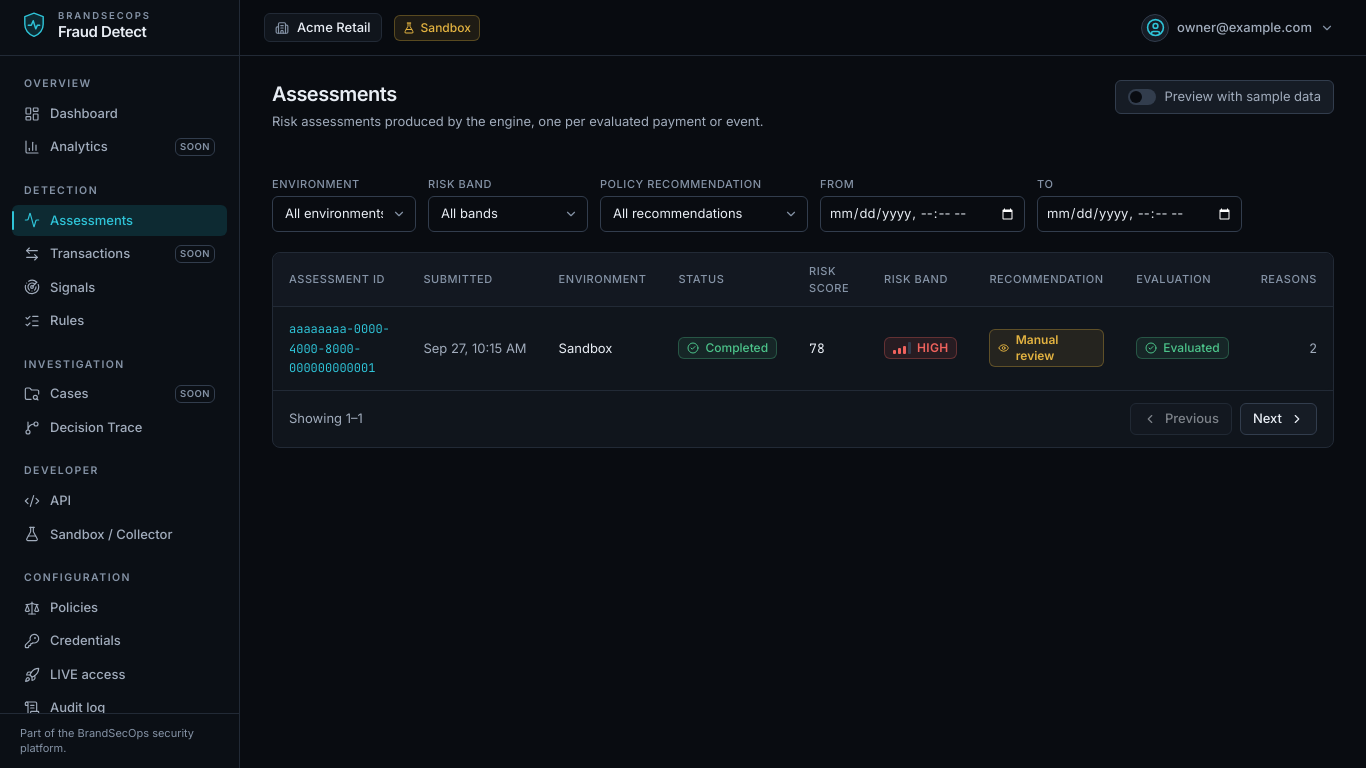
Scenario: real assessment list › has_more=true enables Next; the last page (has_more=false) disables it
Expected: the table named "Assessments" is shown, [273,253,1333,390]
Expected: the button "Previous" is disabled, [1130,402,1232,434]
Click the button "Next".
click(1278, 418)  # box [1240,402,1317,434]
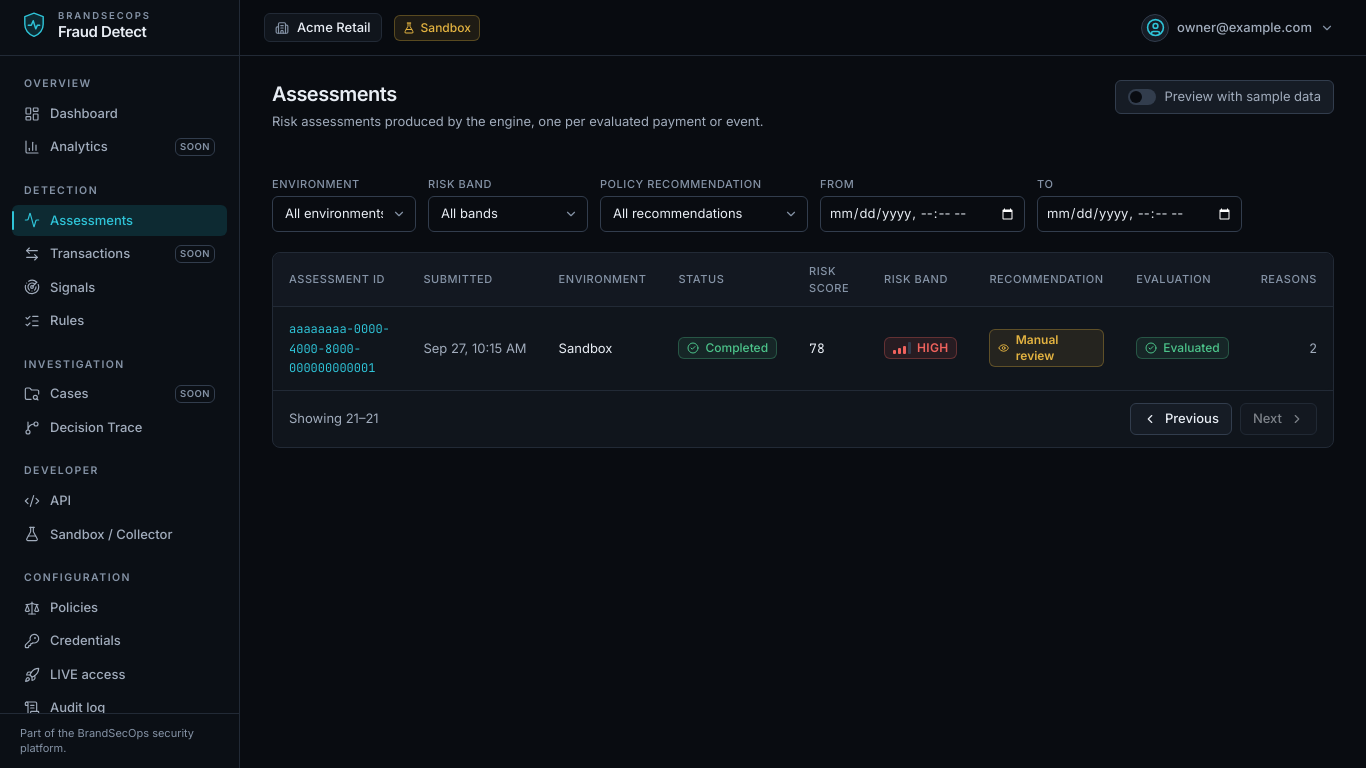
Expected: the button "Next" is disabled, [1240,402,1317,434]
Expected: the button "Previous" is enabled, [1130,402,1232,434]
